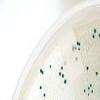Blue_green: (75, 40, 82, 47), (72, 45, 78, 52), (62, 80, 68, 86), (59, 65, 65, 71), (39, 69, 44, 75), (38, 85, 44, 90), (91, 34, 96, 40), (85, 65, 90, 70), (58, 71, 62, 77), (42, 92, 46, 98), (86, 86, 90, 92), (90, 90, 94, 96), (74, 56, 78, 62), (48, 64, 52, 69), (77, 47, 81, 52), (61, 73, 64, 79), (94, 28, 97, 34), (97, 33, 100, 39), (89, 84, 92, 88), (95, 71, 98, 75), (88, 93, 90, 98), (84, 90, 86, 94)
